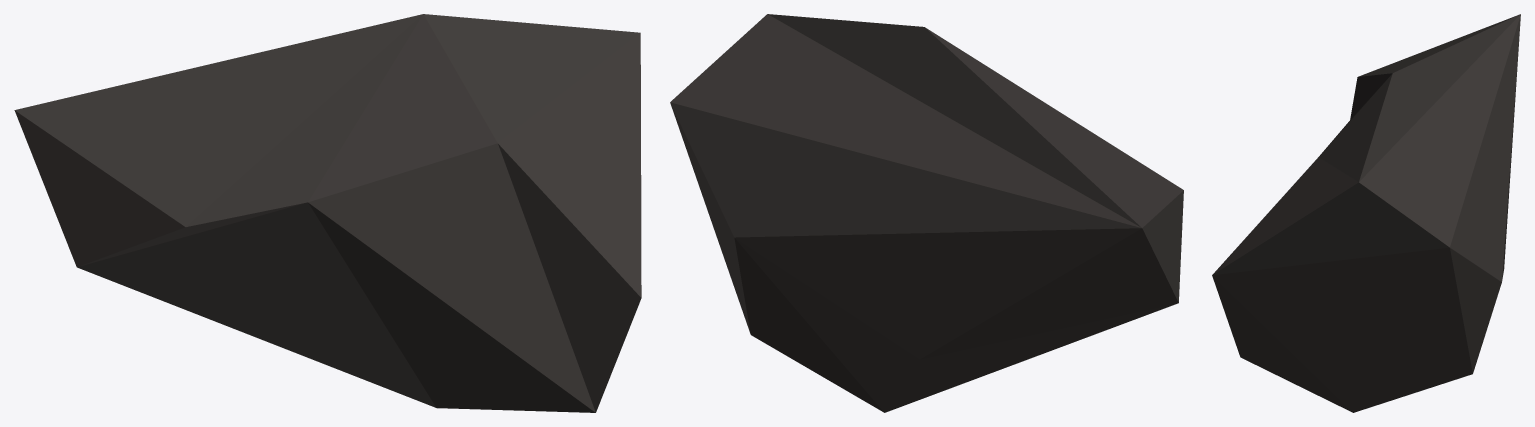
File: Rock_Single_4.fbx
3 views of the same model, side by side, from view 1: azimuth 30°, elevation 25°; view 2: azimuth 150°, elevation 25°; view 3: azimuth 270°, elevation 25° (orthographic). The views are drawn at different scales.
Visible parts, largest first — view 1: Group24401; view 2: Group24401; view 3: Group24401.
Part boxes in pixels (bbox=[...]): Group24401: bbox=[14, 14, 641, 412]; Group24401: bbox=[670, 14, 1183, 412]; Group24401: bbox=[1212, 14, 1520, 412].
Size of the model in its own units: 1.17 by 0.7562 by 0.7332.
